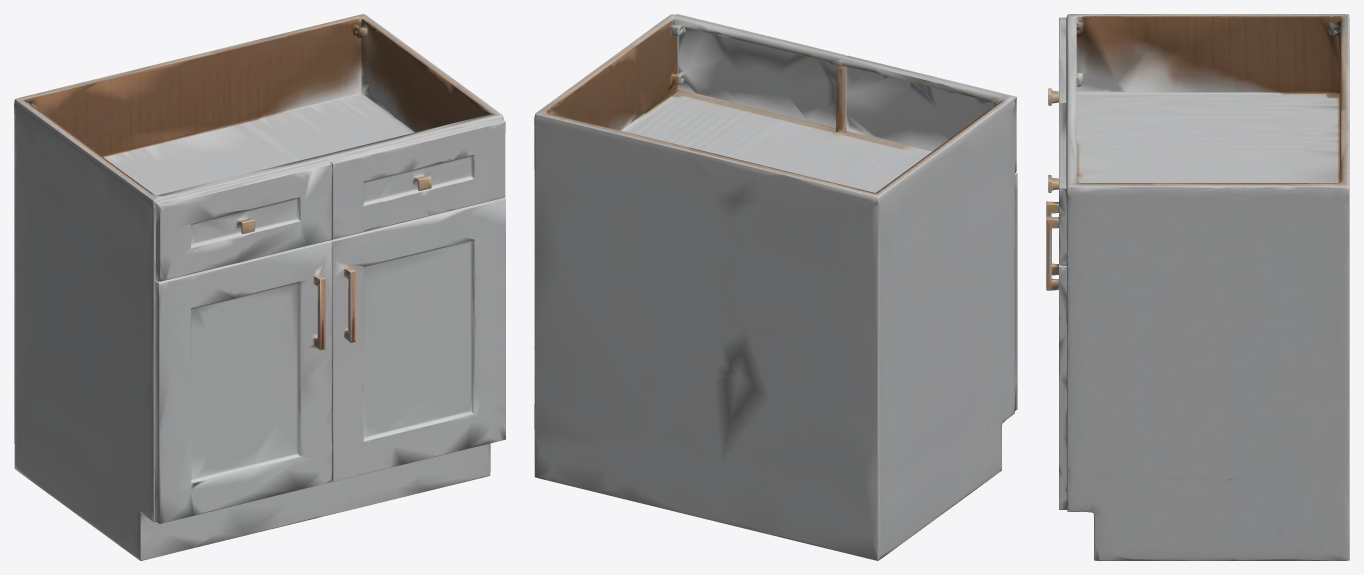
The picture shows the model from 3 angles, left to right: view 1: azimuth 30°, elevation 25°; view 2: azimuth 150°, elevation 25°; view 3: azimuth 270°, elevation 25°; orthographic projection. The views are drawn at different scales.
Visible parts, largest first — view 1: material; view 2: material; view 3: material.
Part boxes in pixels (bbox=[...]): material: bbox=[14, 14, 505, 560]; material: bbox=[534, 14, 1017, 560]; material: bbox=[1046, 14, 1349, 560].
Size of the model in its own units: 0.7532 by 0.7587 by 0.557.
Materials: 1 (1 with a texture image).
